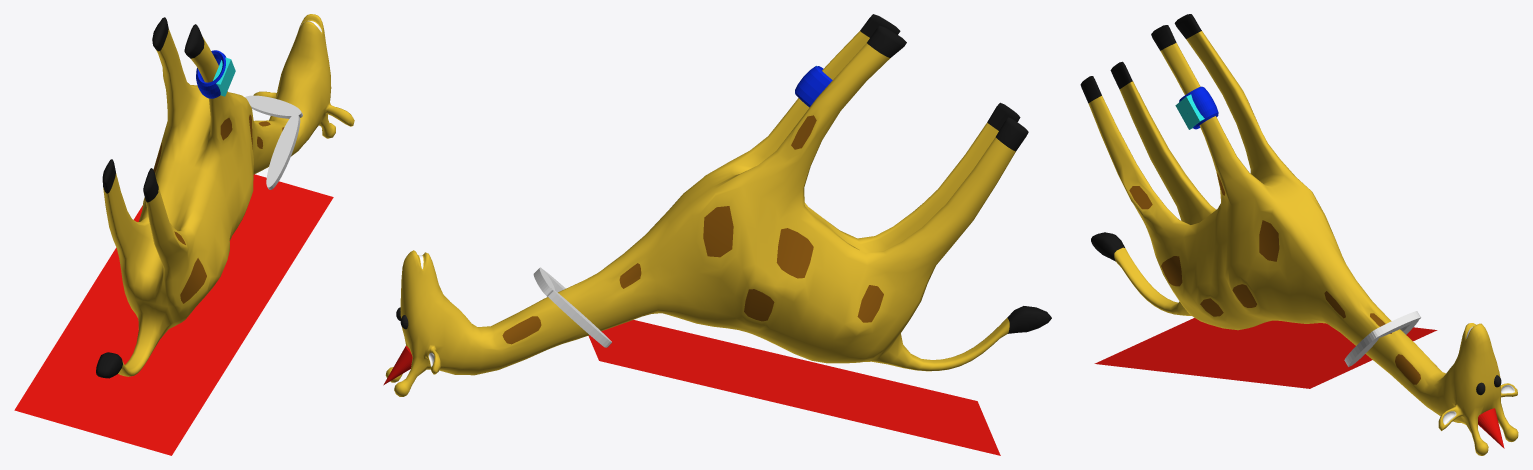
File: supergiraffe2.glb
The picture shows the model from 3 angles, left to right: view 1: azimuth 30°, elevation 25°; view 2: azimuth 150°, elevation 25°; view 3: azimuth 270°, elevation 25°; orthographic projection. The views are drawn at different scales.
Parts seen in each view (by area): view 1: Plane.001, Cube.001, Cylinder.002, Cylinder, Torus, Cube; view 2: Plane.001, Cube.001, Torus, Cylinder.001; view 3: Plane.001, Cube.001, Torus, Cube, Cylinder, Cone.002, Cylinder.002.
Part boxes in pixels (x1,y1,x2,y2): Plane.001: (96,14,354,378); Cube.001: (14,174,333,455); Cylinder.002: (266,112,300,189); Cylinder: (245,95,302,118); Torus: (196,50,226,98); Cube: (213,57,235,96); Plane.001: (385,14,1051,396); Cube.001: (588,320,1000,455); Torus: (795,66,832,107); Cylinder.001: (548,288,611,347); Plane.001: (1080,14,1518,455); Cube.001: (1094,318,1437,388); Torus: (1179,86,1218,129); Cube: (1175,94,1204,129); Cylinder: (1371,311,1420,338); Cone.002: (1478,408,1504,448); Cylinder.002: (1344,332,1378,366).
Bounding box in the file's own units: 2.16 × 1.76 × 1.89.
